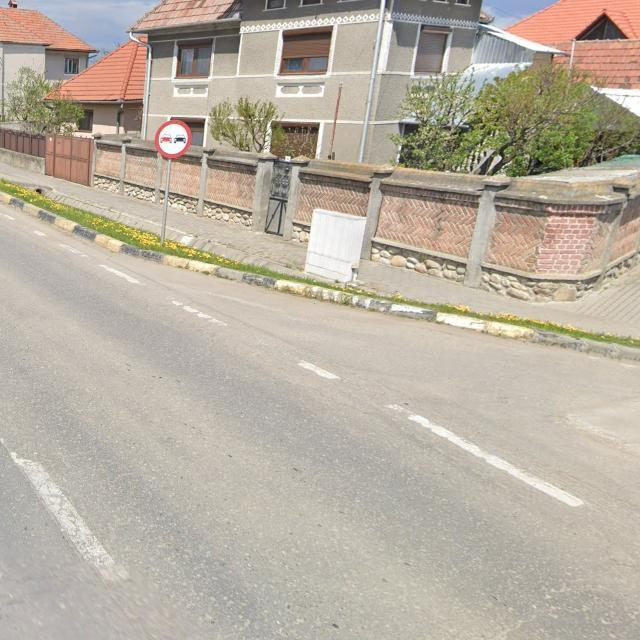forb_overtake: (156, 119, 191, 158)
